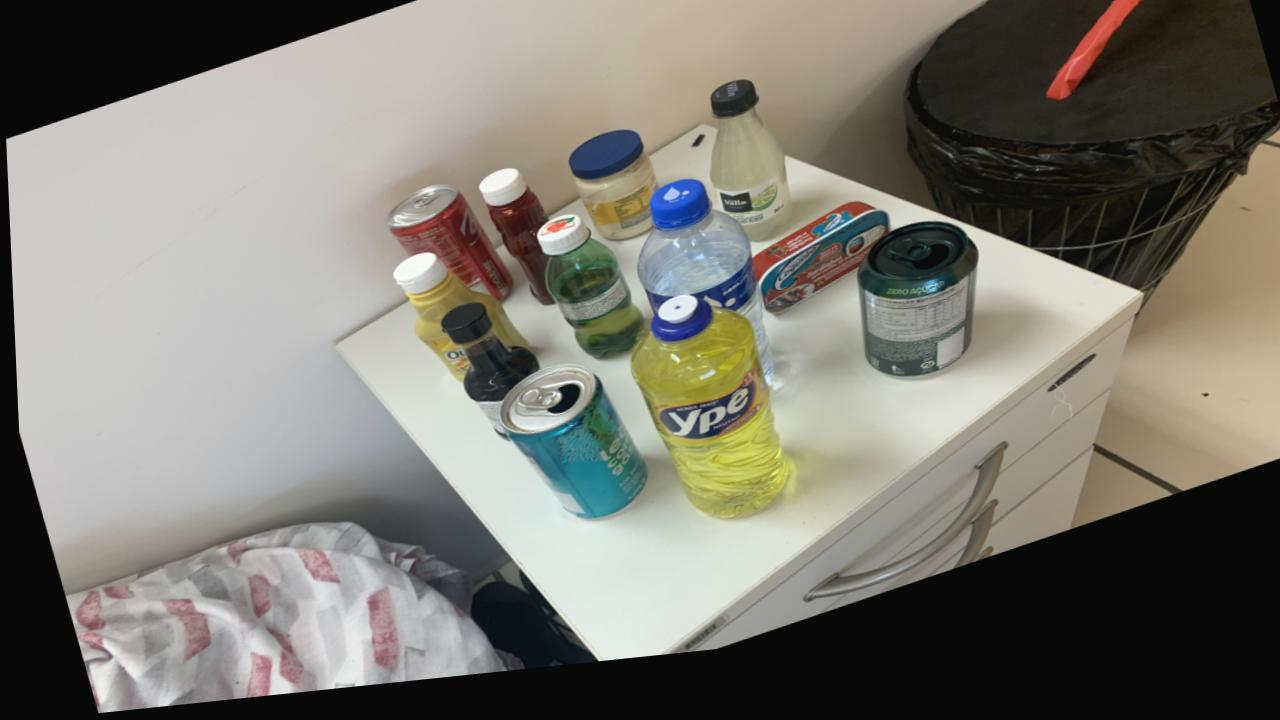Coke-Drinks: (383, 192, 510, 309)
Detergent-Cleanup_Items: (626, 308, 783, 534)
English_Sauce-Pantry_Items: (456, 340, 535, 412)
Guarana-Drinks: (533, 226, 640, 371)
Guarana_Can-Drinks: (853, 241, 975, 396)
Ketchup-Pantry_Items: (476, 178, 551, 316)
Mayonnaise-Pantry_Items: (566, 142, 655, 253)
Mustard-Pantry_Items: (389, 261, 524, 390)
Soda-Drinks: (707, 95, 790, 257)
Tea-Drinks: (494, 376, 642, 531)
Tuna_Can-Pantry_Items: (748, 219, 886, 330)
Water_Bottle-Drinks: (633, 193, 769, 397)
